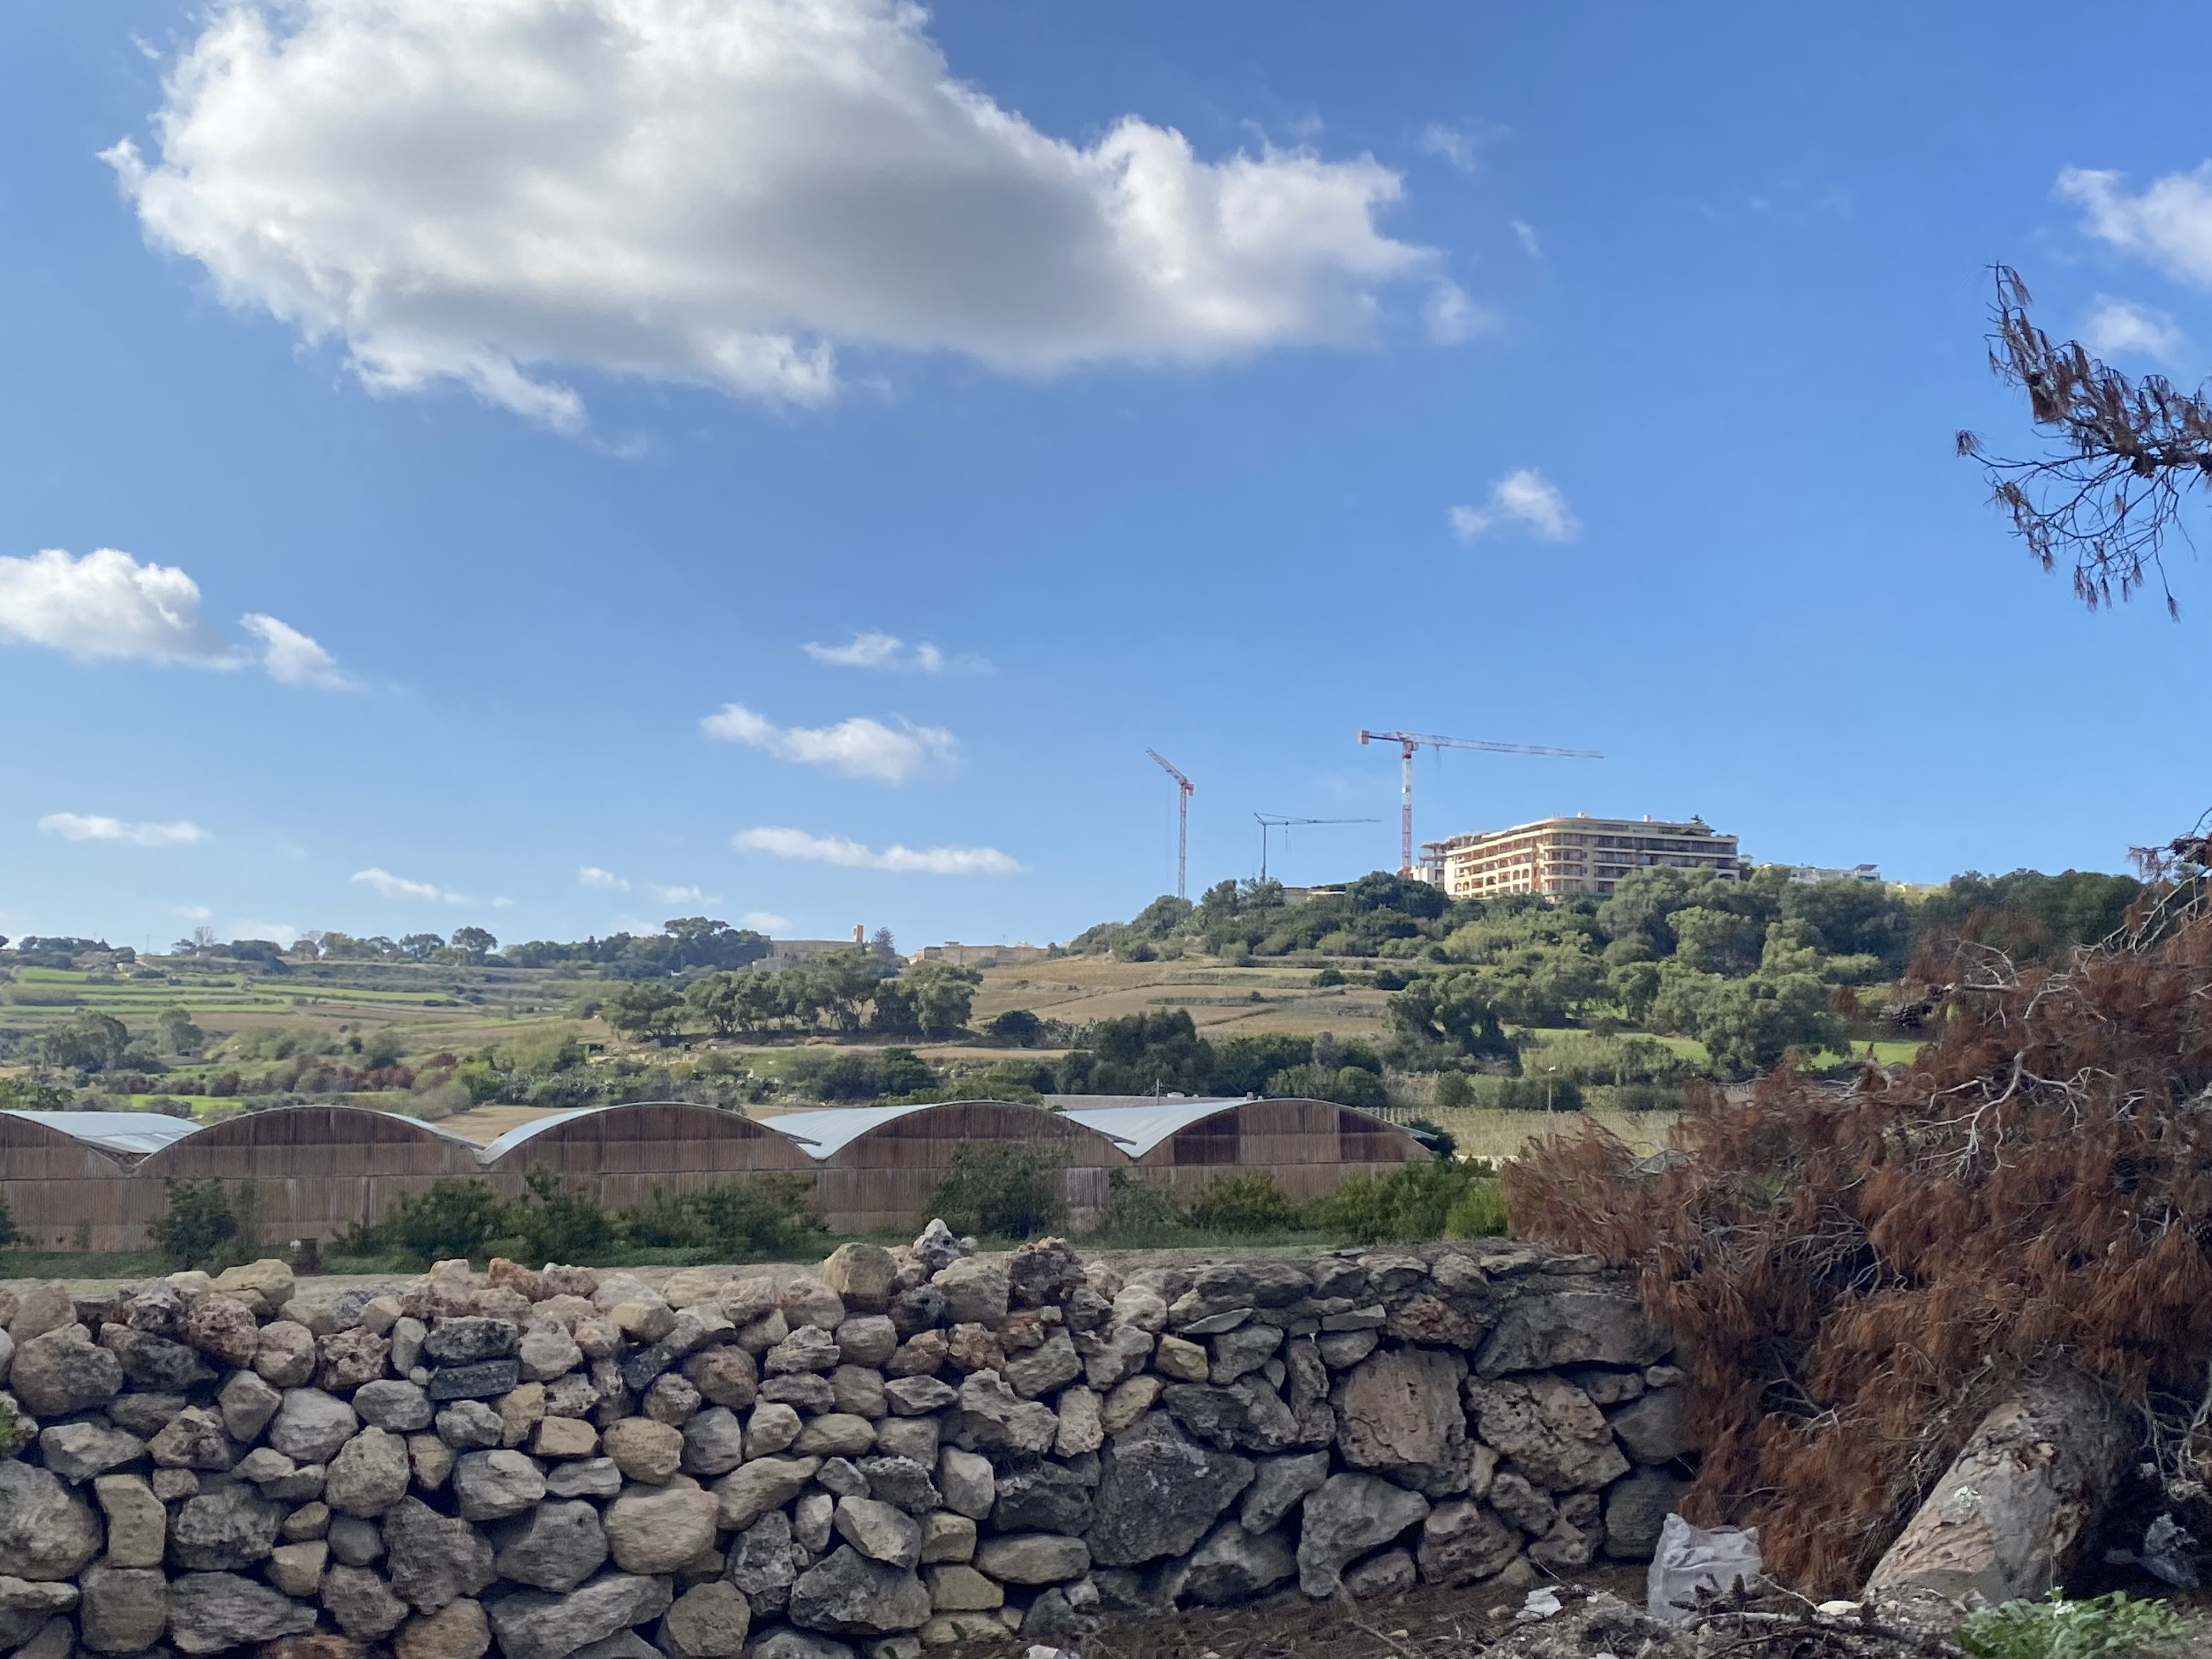crane: (1345, 704, 1649, 810), (1130, 737, 1219, 894)
